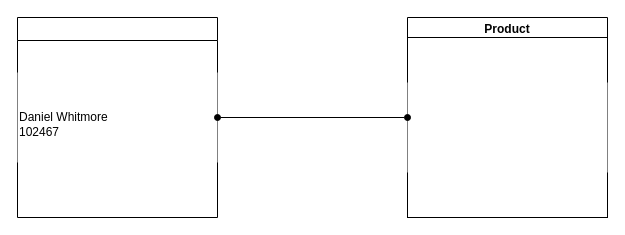
The diagram is 625 pixels wide and 235 high, and some of its shapes have lost their labels. Each missing label, with the box of its shape:
Croissant 10437223: (407, 82, 607, 172)
Customer: (16, 16, 218, 218)
